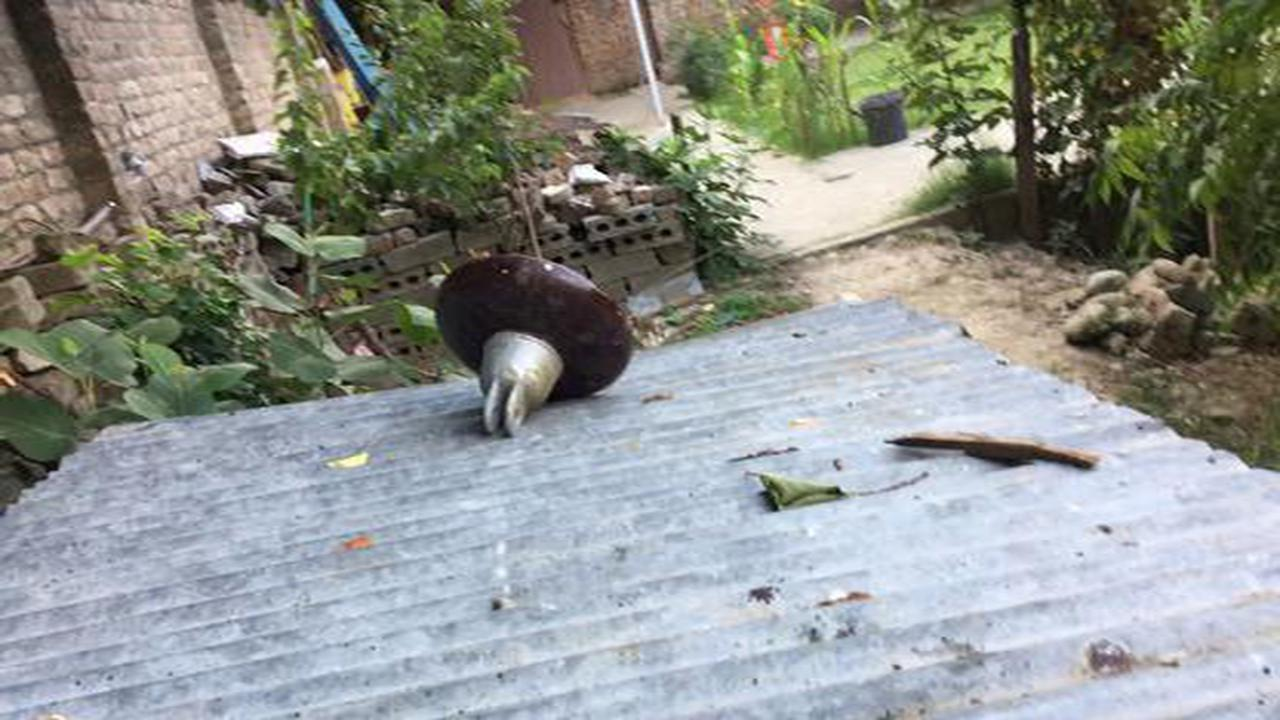insulator_disc: (431, 250, 638, 435)
